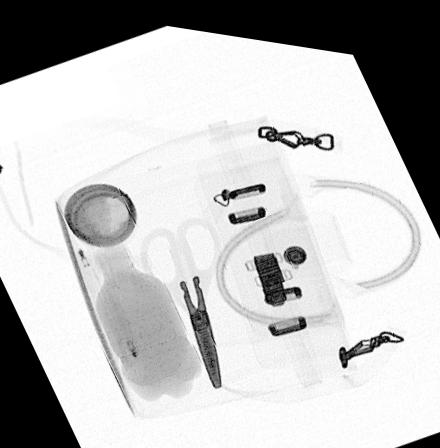Scissors: (134, 208, 228, 386)
